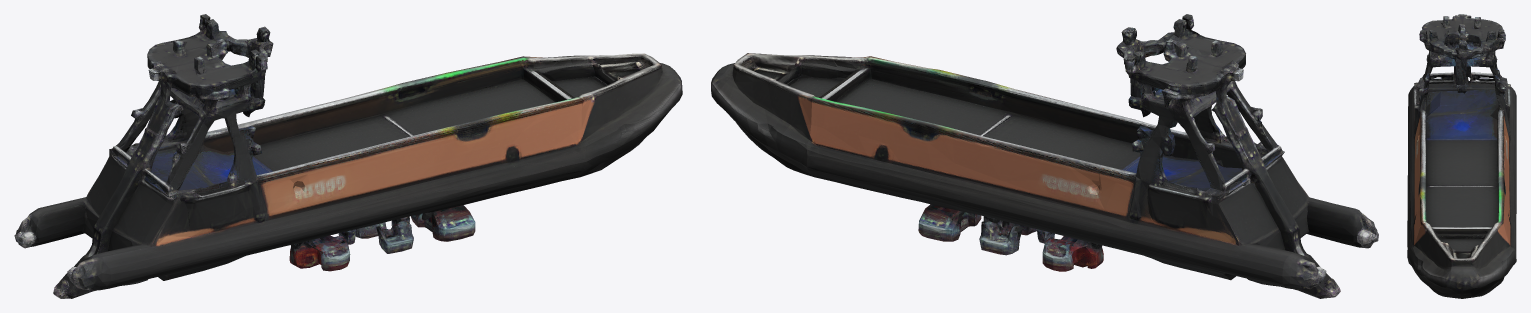
File: düşman_ida69.glb
The picture shows the model from 3 angles, left to right: view 1: azimuth 30°, elevation 25°; view 2: azimuth 150°, elevation 25°; view 3: azimuth 270°, elevation 25°; orthographic projection. The views are drawn at different scales.
Visible parts, largest first — view 1: world; view 2: world; view 3: world.
Boxes of the visible parts, x1,y1,x2,y2 form: world: (14,14,682,298); world: (711,14,1378,298); world: (1407,14,1516,298).
Bounding box in the file's own units: 0.9962 × 0.3692 × 0.2146.
1 material, 1 textured.
